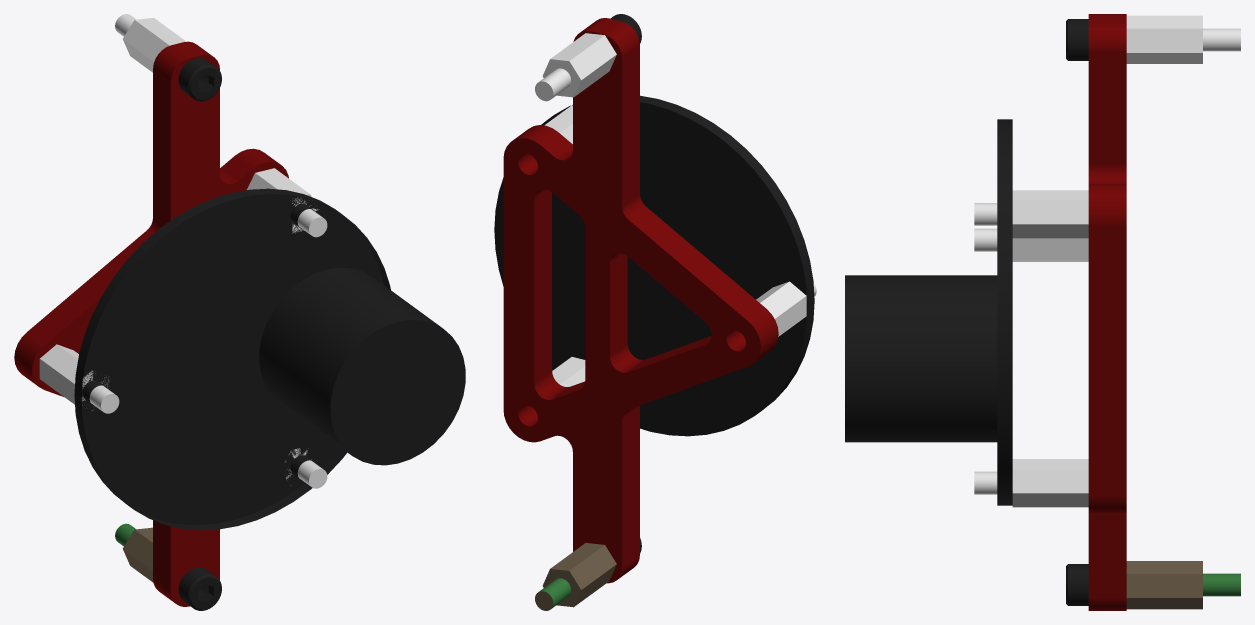
File: leddar_one_tx2_attached_mode.dae
3 renders of one model, left to right at view 1: azimuth 30°, elevation 25°; view 2: azimuth 150°, elevation 25°; view 3: azimuth 270°, elevation 25°, orthographic. The views are drawn at different scales.
Parts seen in each view (by area): view 1: Body_1 (×4), _3DGeom_21 (×4); view 2: Body_1 (×2), _3DGeom_21 (×5), _3DGeom_22 (×2); view 3: Body_1 (×4), _3DGeom_21 (×5), _3DGeom_22 (×5).
Boxes of the visible parts, box(x1,y1,x2,y2) form: Body_1 (×4): box(14, 41, 465, 610); _3DGeom_21 (×4): box(39, 18, 327, 582); Body_1 (×2): box(494, 18, 814, 583); _3DGeom_21 (×5): box(535, 33, 806, 610); _3DGeom_22 (×2): box(539, 68, 571, 608); Body_1 (×4): box(845, 14, 1126, 610); _3DGeom_21 (×5): box(1012, 15, 1202, 609); _3DGeom_22 (×5): box(974, 28, 1240, 596).
Size of the model in its own units: 0.0519 by 0.052 by 0.085.
